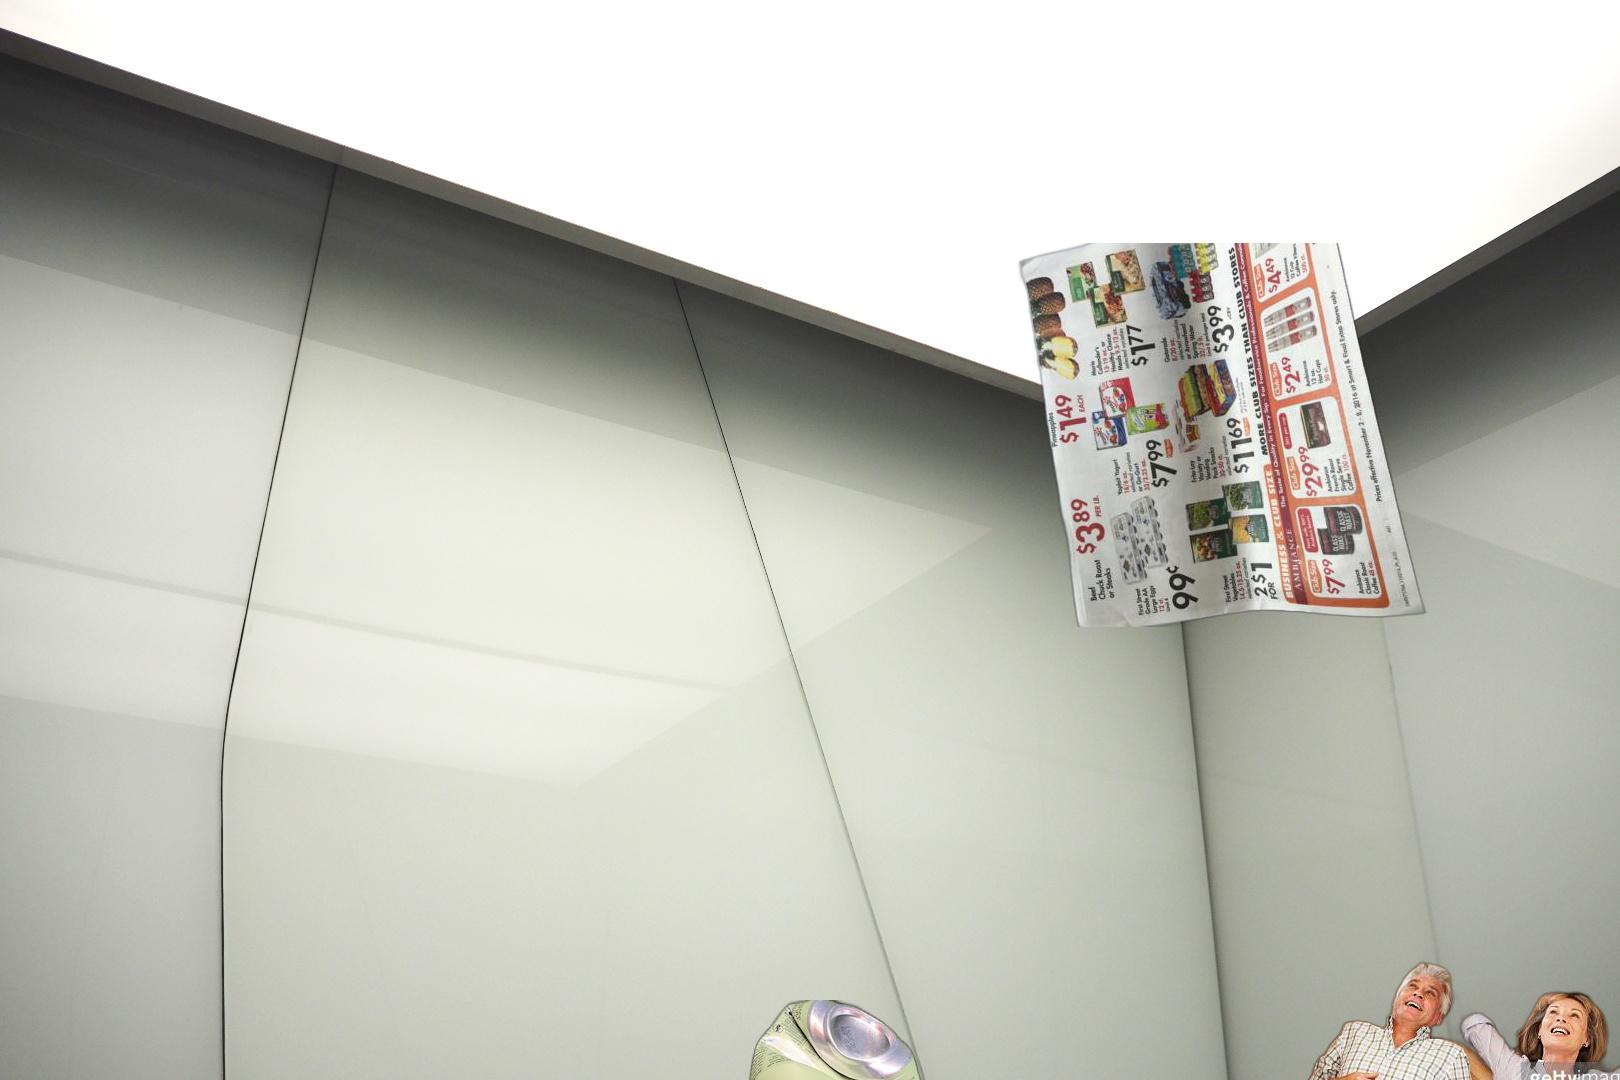metal-cans: (745, 1000, 929, 1080)
paper: (1016, 243, 1430, 627)
trashbox-cardboard: (1164, 958, 1620, 1080)
